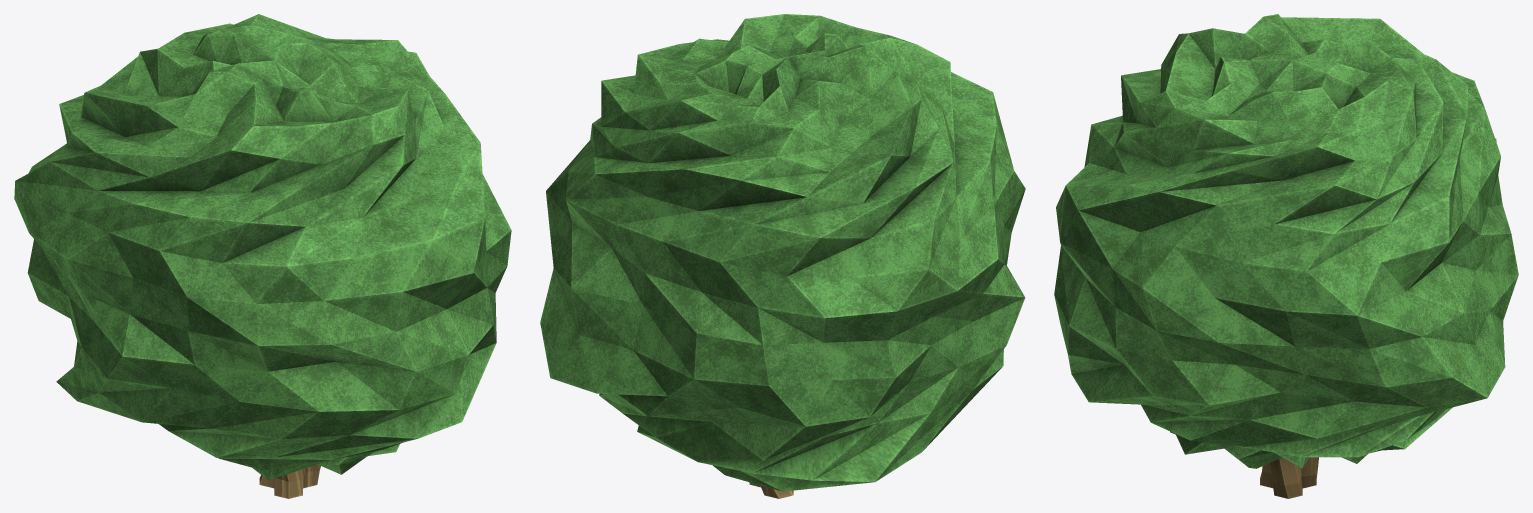
Rendered from Shrub.gltf.
3 renders of one model, left to right at view 1: azimuth 30°, elevation 25°; view 2: azimuth 150°, elevation 25°; view 3: azimuth 270°, elevation 25°, orthographic. The views are drawn at different scales.
Parts seen in each view (by area): view 1: node-0; view 2: node-0; view 3: node-0.
Part boxes in pixels (x1=…): node-0: x1=14, y1=14, x2=511, y2=498; node-0: x1=540, y1=14, x2=1025, y2=498; node-0: x1=1054, y1=14, x2=1518, y2=498.
Bounding box in the file's own units: 4.57 × 4.66 × 4.52.
1 material, 1 textured.
